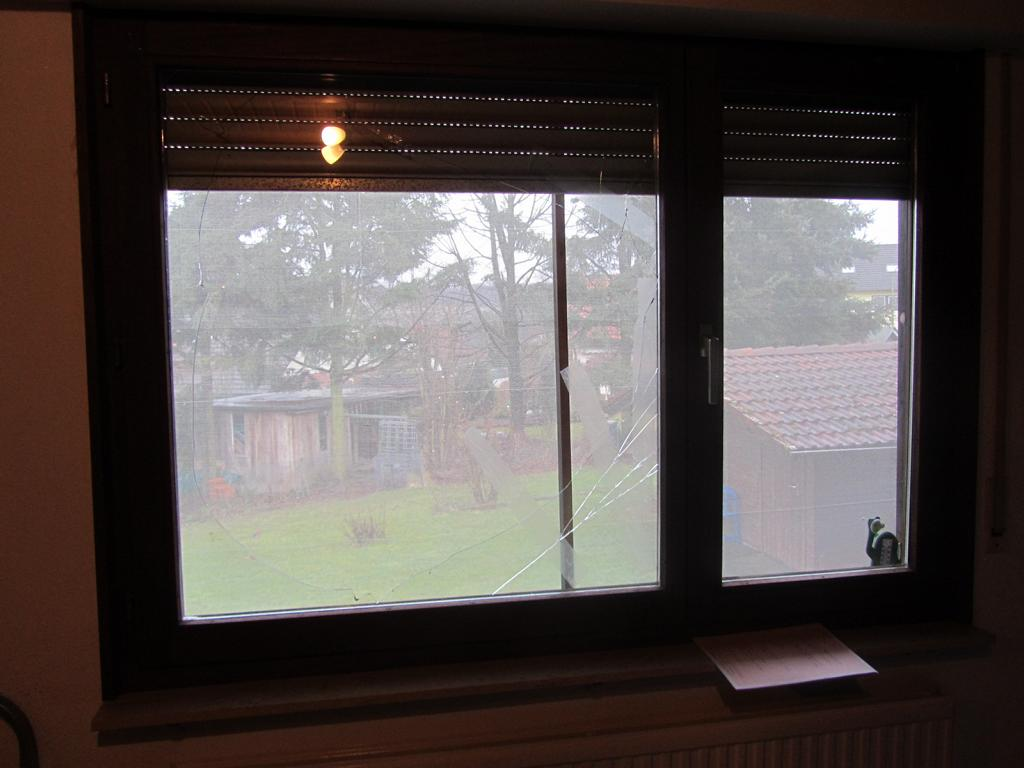windows: (160, 159, 915, 600)
